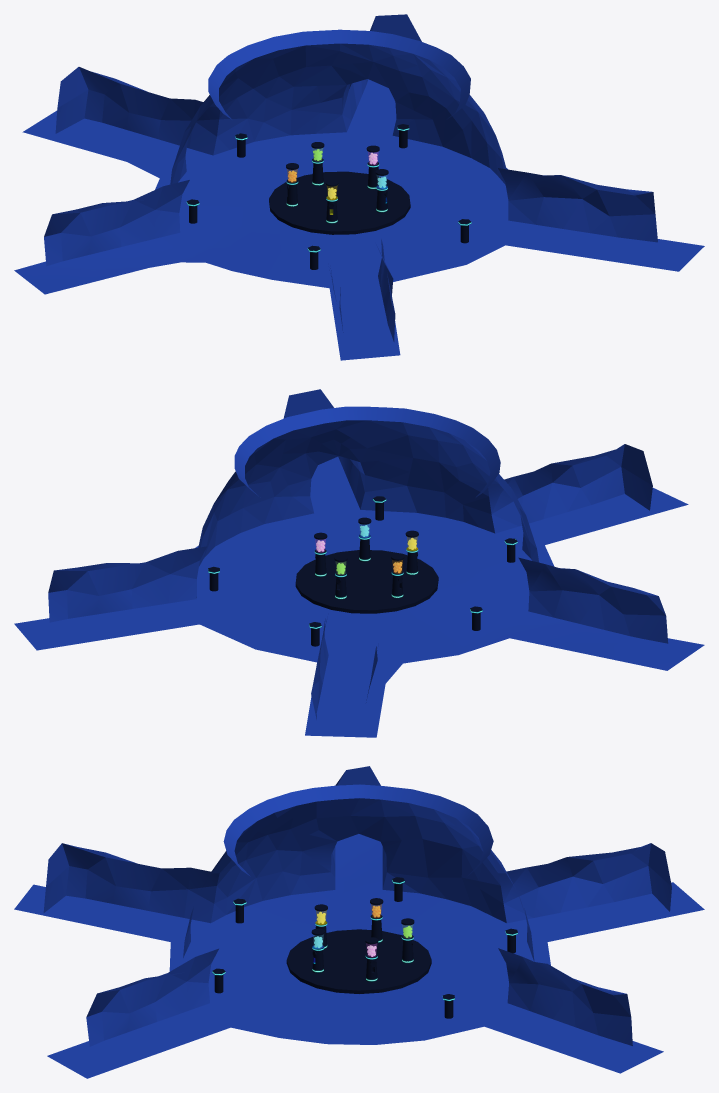
File: room-noTank.gltf
3 views of the same model, one above another, from view 1: azimuth 30°, elevation 25°; view 2: azimuth 150°, elevation 25°; view 3: azimuth 270°, elevation 25° (orthographic).
Parts seen in each view (by area): view 1: group4 mainRoomFloor, group4 mainRoom, group4 central_pedestal; view 2: group4 mainRoomFloor, group4 mainRoom, group4 central_pedestal; view 3: group4 mainRoom, group4 mainRoomFloor, group4 central_pedestal.
Part boxes in pixels (left/top/right/bottom): group4 mainRoomFloor: left=14, top=79, right=704, bottom=360; group4 mainRoom: left=44, top=14, right=657, bottom=341; group4 central_pedestal: left=269, top=171, right=410, bottom=234; group4 mainRoomFloor: left=14, top=456, right=704, bottom=737; group4 mainRoom: left=48, top=389, right=668, bottom=719; group4 central_pedestal: left=295, top=550, right=438, bottom=613; group4 mainRoom: left=43, top=766, right=671, bottom=1046; group4 mainRoomFloor: left=14, top=834, right=704, bottom=1078; group4 central_pedestal: left=286, top=929, right=431, bottom=993.
Bounding box in the file's own units: 27.02 × 5.73 × 29.01.
5 materials, 5 textured.
